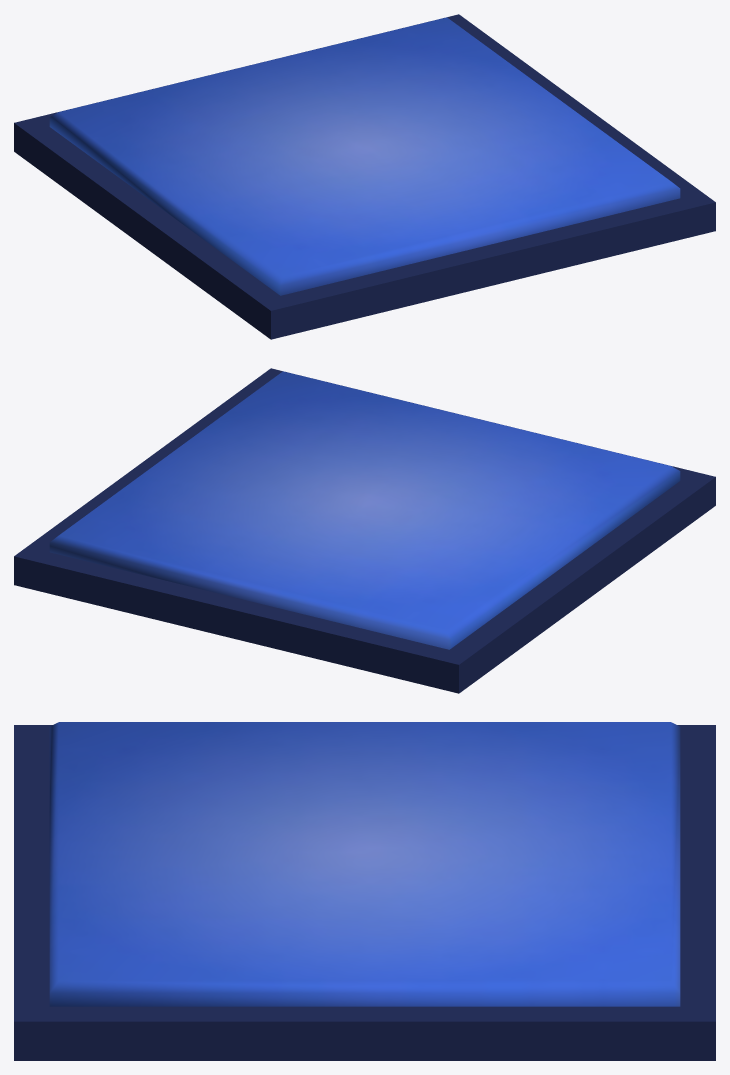
File: tileDarkBlue.glb
3 views of the same model, one above another, from view 1: azimuth 30°, elevation 25°; view 2: azimuth 150°, elevation 25°; view 3: azimuth 270°, elevation 25° (orthographic). The views are drawn at different scales.
Parts seen in each view (by area): view 1: TileDarkBlue; view 2: TileDarkBlue; view 3: TileDarkBlue.
Part boxes in pixels (x1=…): TileDarkBlue: x1=14, y1=14, x2=715, y2=339; TileDarkBlue: x1=14, y1=368, x2=715, y2=693; TileDarkBlue: x1=14, y1=722, x2=715, y2=1060.
Size of what is drawn, in the model's own units: 2 by 0.192 by 2.
Materials: 1 (1 with a texture image).
